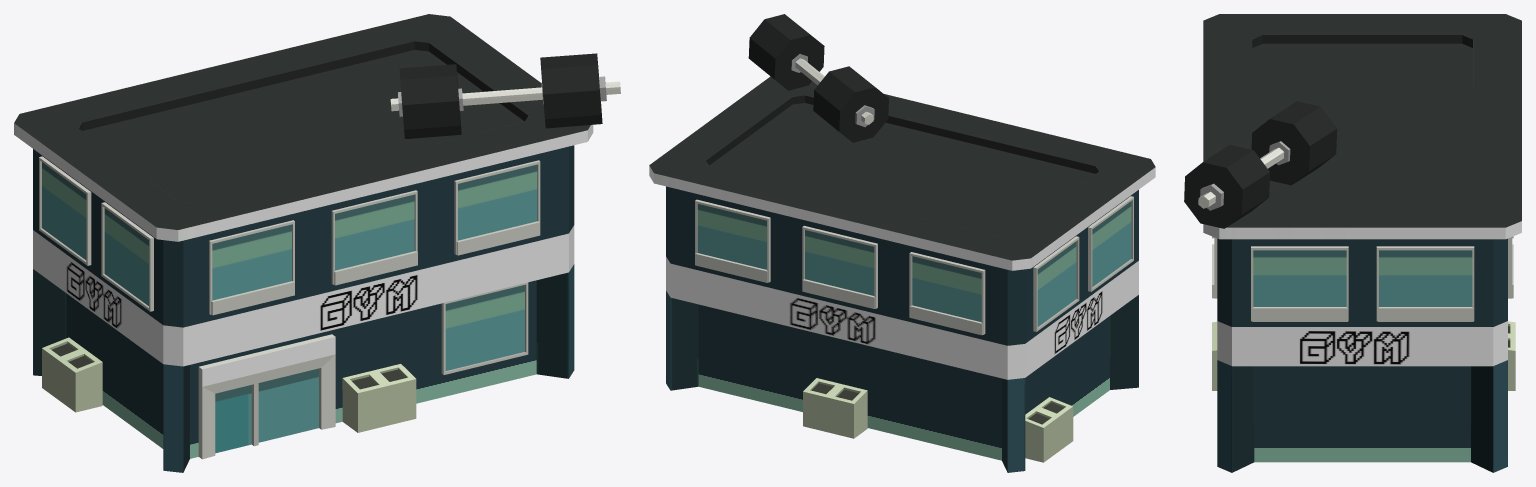
Rendered from Gym.fbx.
The picture shows the model from 3 angles, left to right: view 1: azimuth 30°, elevation 25°; view 2: azimuth 150°, elevation 25°; view 3: azimuth 270°, elevation 25°; orthographic projection. The views are drawn at different scales.
Visible parts, largest first — view 1: Gym; view 2: Gym; view 3: Gym.
Part boxes in pixels (box(x1,y1,x2,y2)): Gym: box(14, 14, 620, 472); Gym: box(649, 14, 1155, 472); Gym: box(1184, 14, 1521, 472).
Size of the model in its own units: 5.23 by 3.43 by 3.33.
